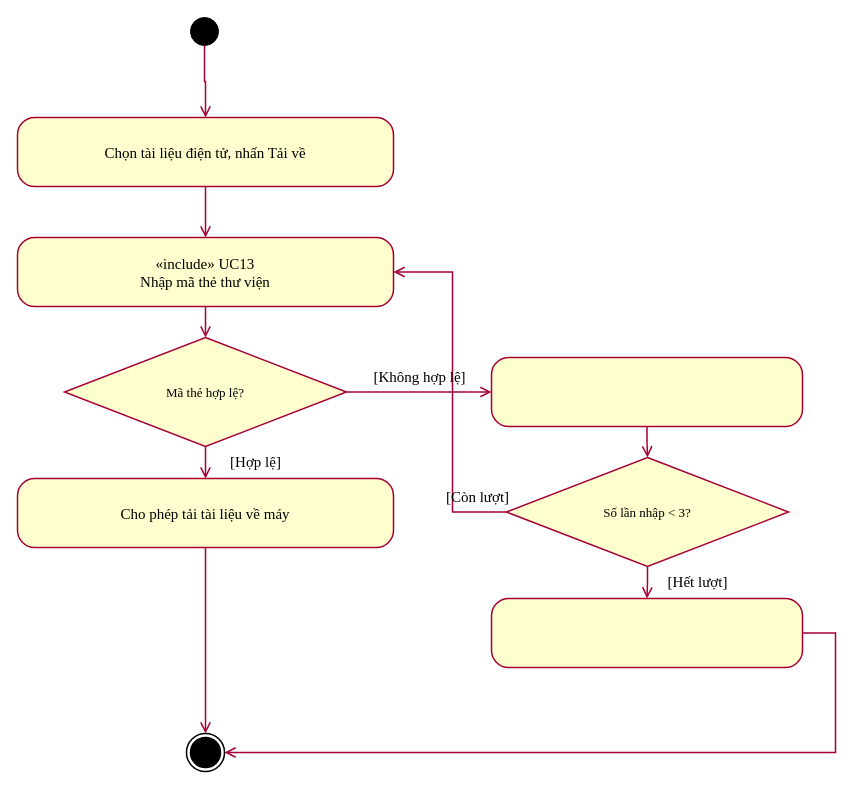
The diagram is 864 pixels wide and 790 high, and some of its shapes have lost their labels. The shapes that lost their labels are listed below. From the top down, each one's centre as x and y in pixels, then its label:
At pixel 646 391: "Hiển thị lỗi, yêu cầu nhập lại".
At pixel 646 632: "Hủy thao tác".
